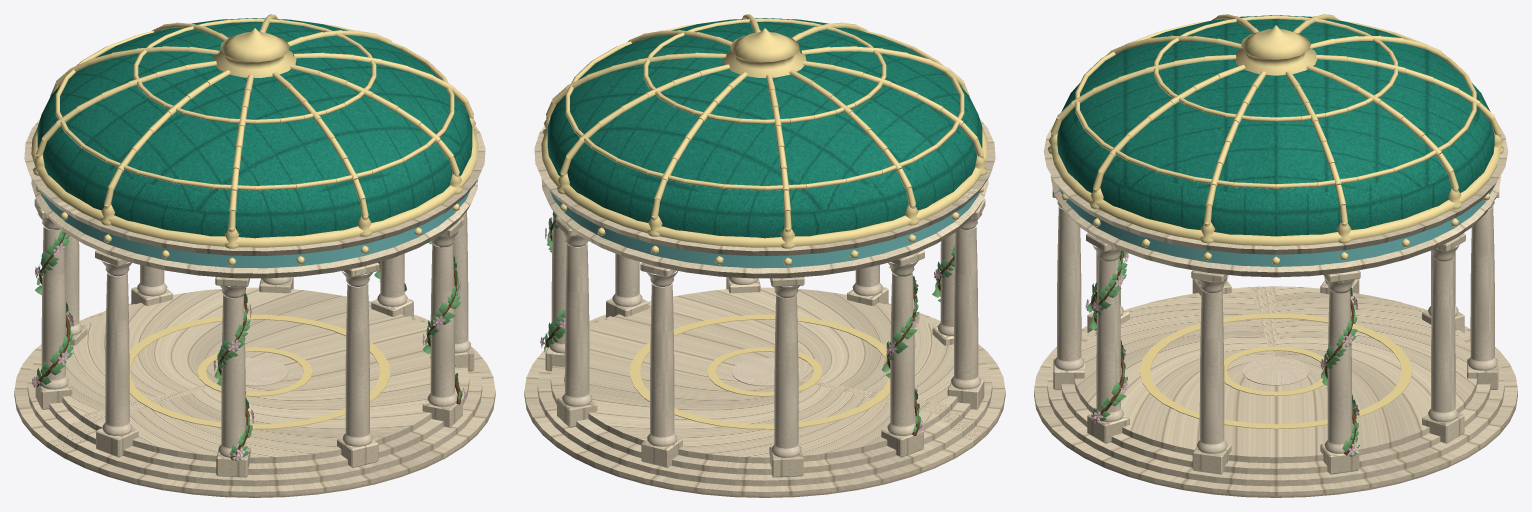
File: gazebo-HKLz0C0l.glb
The picture shows the model from 3 angles, left to right: view 1: azimuth 30°, elevation 25°; view 2: azimuth 150°, elevation 25°; view 3: azimuth 270°, elevation 25°; orthographic projection.
Parts seen in each view (by area): view 1: gazebo, gazebo-platform, gazebo-columns; view 2: gazebo, gazebo-platform, gazebo-columns; view 3: gazebo, gazebo-platform, gazebo-columns.
Boxes of the visible parts, left/top/right/bottom form: gazebo: left=24, top=14, right=485, bottom=460; gazebo-platform: left=14, top=287, right=495, bottom=497; gazebo-columns: left=34, top=199, right=474, bottom=477; gazebo: left=534, top=14, right=995, bottom=435; gazebo-platform: left=524, top=287, right=1005, bottom=497; gazebo-columns: left=545, top=199, right=985, bottom=477; gazebo: left=1043, top=14, right=1508, bottom=456; gazebo-platform: left=1034, top=286, right=1517, bottom=497; gazebo-columns: left=1052, top=188, right=1499, bottom=474.
Bounding box in the file's own units: 5.5 × 4.65 × 5.5.
Materials: 8 (4 with a texture image).
